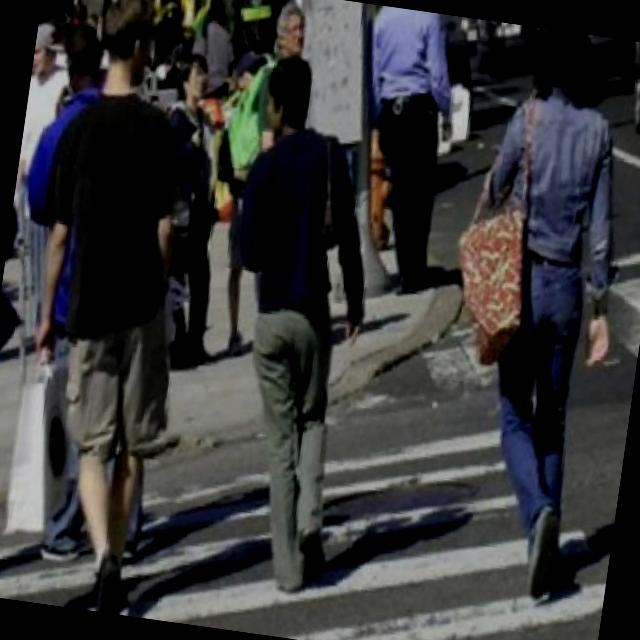Person: (0, 0, 221, 615), (420, 22, 640, 608), (186, 46, 396, 597), (338, 4, 463, 290)
